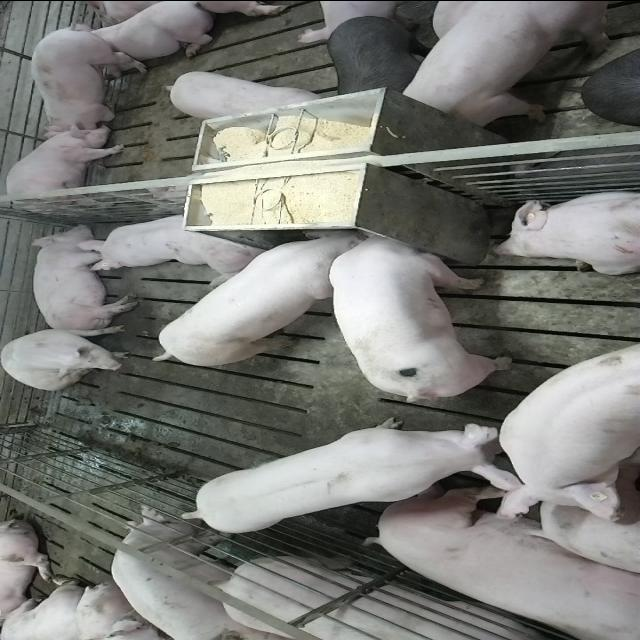Feeding: (328, 223, 517, 395), (144, 229, 364, 369)
Lateral_lying: (366, 482, 640, 636), (26, 222, 140, 332)
Sitting: (1, 324, 141, 389)
Standing: (180, 418, 526, 538), (215, 552, 583, 640), (494, 344, 640, 526), (394, 1, 608, 124), (106, 509, 278, 640), (28, 26, 148, 132), (5, 122, 131, 210), (326, 14, 432, 96), (161, 66, 327, 118)
Sternal_lying: (76, 209, 264, 280), (489, 188, 640, 274), (78, 1, 216, 59)
